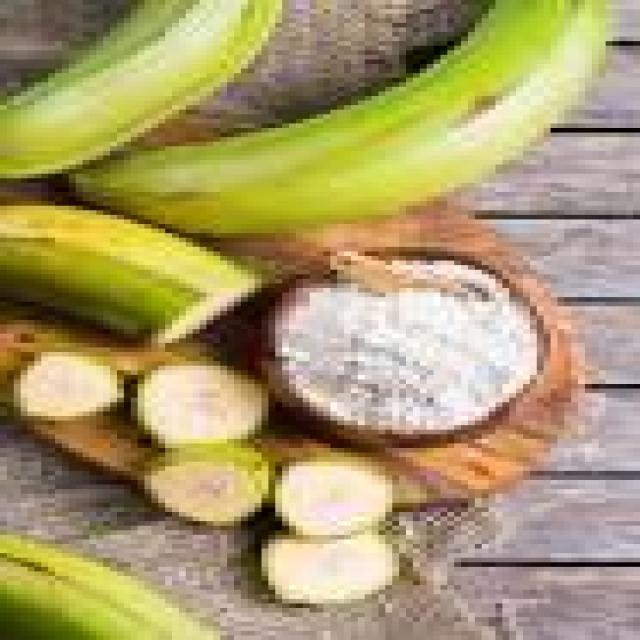banana: (76, 0, 605, 237), (0, 0, 282, 178), (0, 206, 261, 342), (0, 535, 220, 639)
